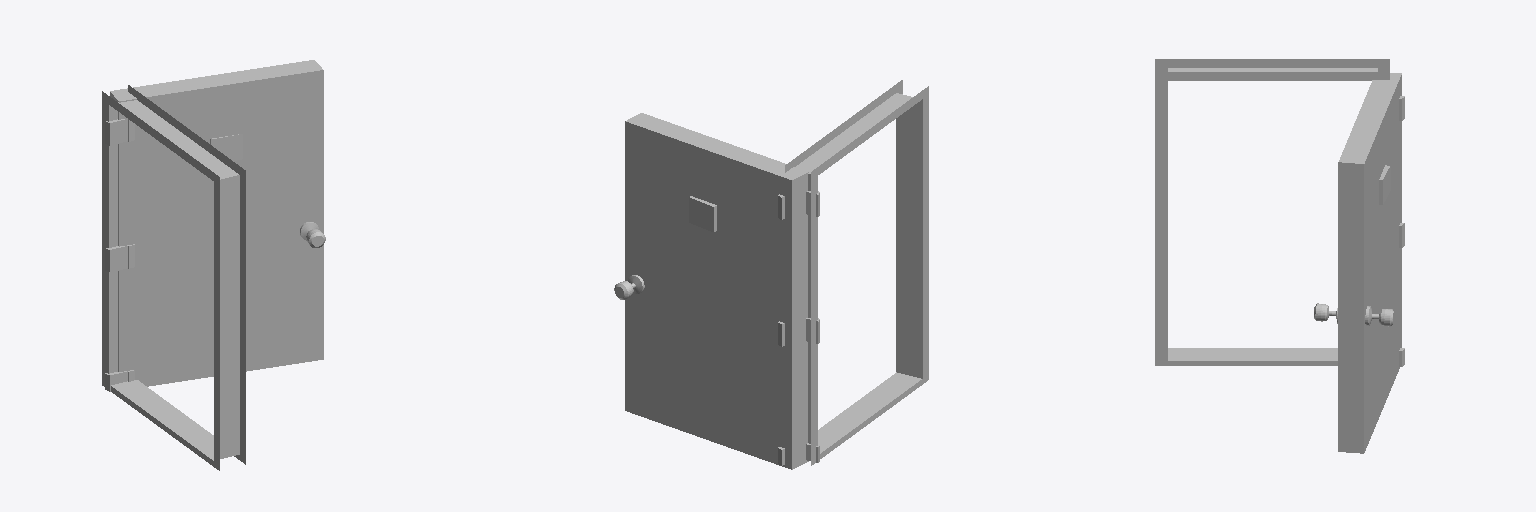
Rendered from Door_5_Open20.obj.
3 views of the same model, side by side, from view 1: azimuth 30°, elevation 25°; view 2: azimuth 150°, elevation 25°; view 3: azimuth 270°, elevation 25° (orthographic).
Parts seen in each view (by area): view 1: Door.004, Frame_Door.004; view 2: Door.004, Frame_Door.004; view 3: Door.004, Frame_Door.004.
Part boxes in pixels (x1,y1,x2,y2): Door.004: (110,60,325,386); Frame_Door.004: (102,85,245,470); Door.004: (614,113,808,469); Frame_Door.004: (785,80,928,465); Door.004: (1314,73,1404,453); Frame_Door.004: (1155,59,1389,365).
Size of the model in its own units: 0.8323 by 1.17 by 0.8938.